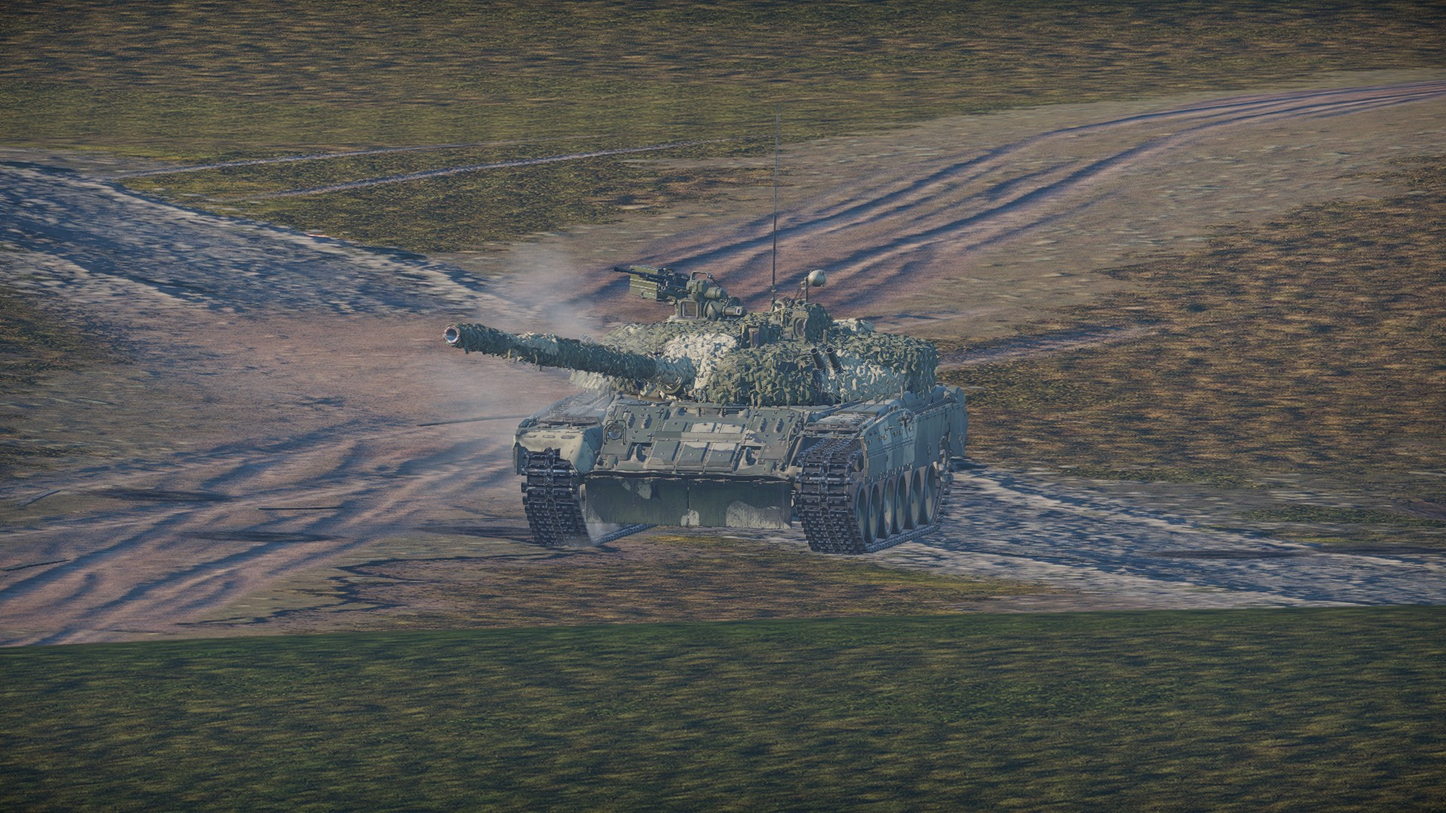t-80u: (441, 263, 964, 555)
